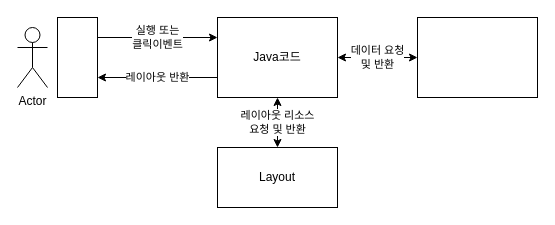
Some shapes in this 555 by 225 pixel diagram are drawn without their labels. The centre of each missing label's shape, as x and y in pixels:
SQLite: the point at 477,57
UI: the point at 77,57
